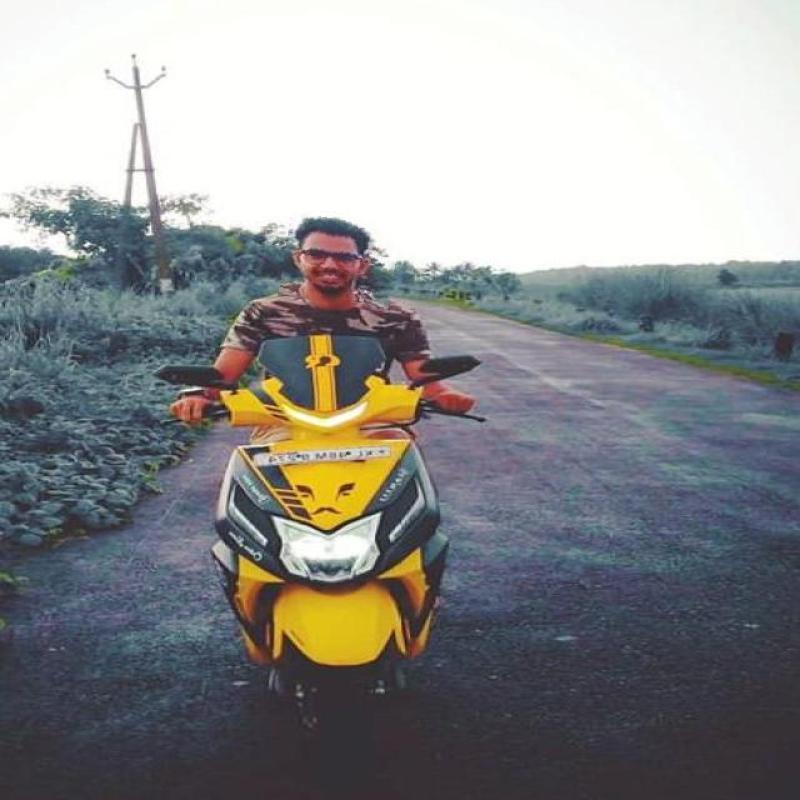nohelmet: (281, 216, 398, 308)
